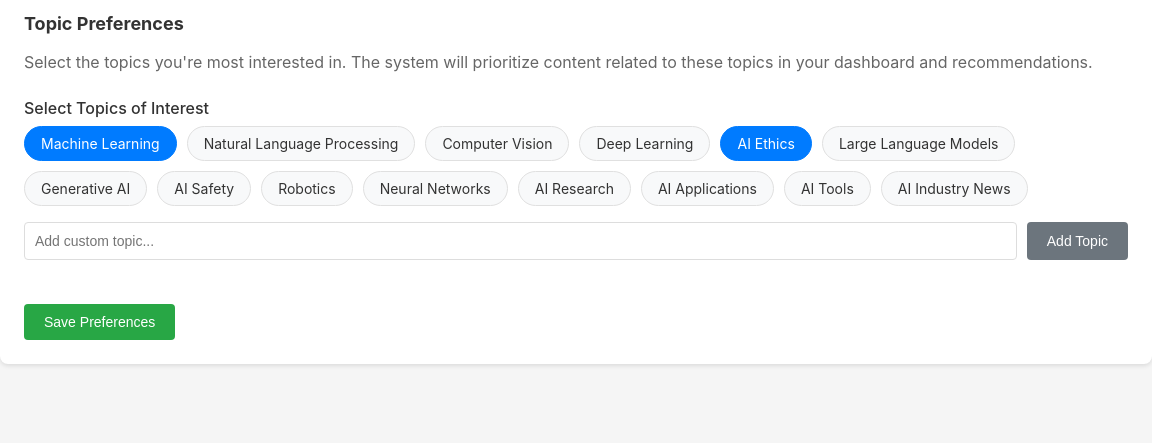
it: TopicPreferences Component › shows error message when save fails
Click the button "Save Preferences" at (100, 322), box [24,304,175,340]
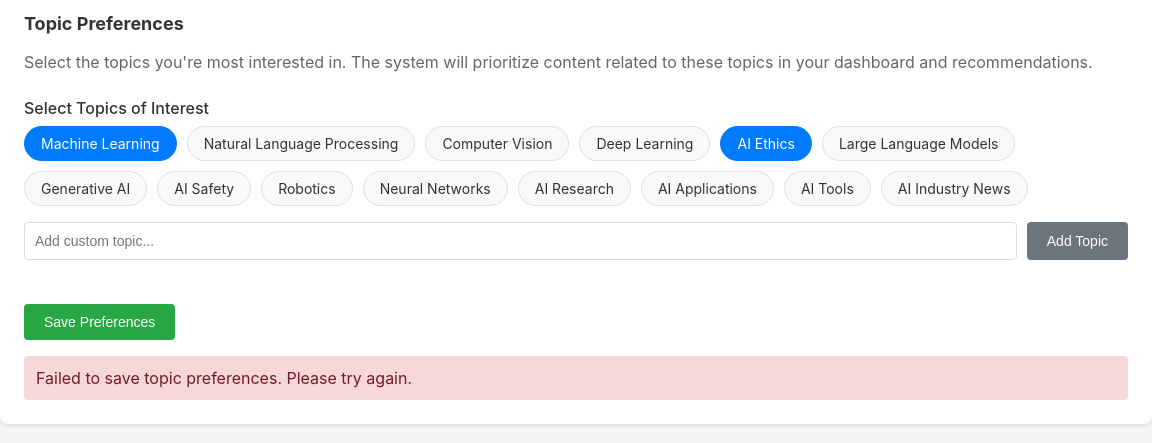
Now the text "Failed to save topic preferences. Please try again." is shown, box [24,356,1128,400]
